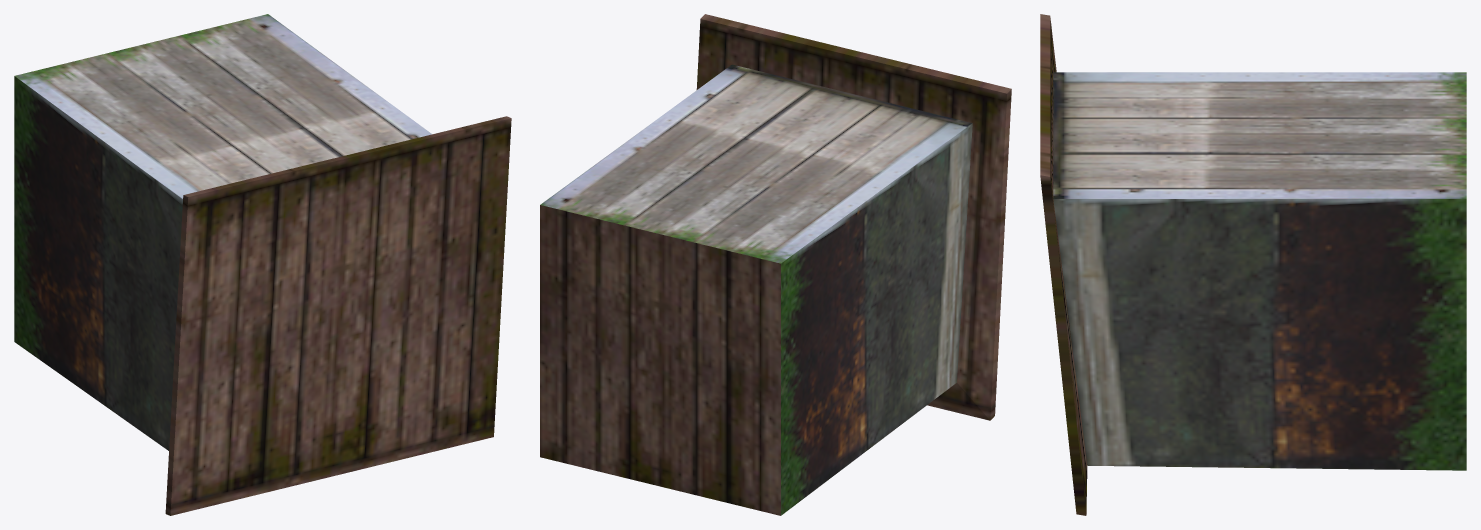
The model's file is m13shack_wtf.obj.
3 views of the same model, side by side, from view 1: azimuth 30°, elevation 25°; view 2: azimuth 150°, elevation 25°; view 3: azimuth 270°, elevation 25° (orthographic). The views are drawn at different scales.
Parts seen in each view (by area): view 1: group2, group7, group4; view 2: group2, group7, group4; view 3: group5, group4, group2.
Boxes of the visible parts, bbox=[...] form: group2: bbox=[165, 116, 511, 515]; group7: bbox=[14, 76, 182, 450]; group4: bbox=[15, 14, 431, 198]; group2: bbox=[540, 14, 1011, 515]; group7: bbox=[781, 123, 972, 515]; group4: bbox=[540, 64, 972, 263]; group5: bbox=[1053, 199, 1466, 470]; group4: bbox=[1053, 72, 1466, 198]; group2: bbox=[1040, 14, 1087, 515].
Size of the model in its own units: 591 by 582 by 660.
